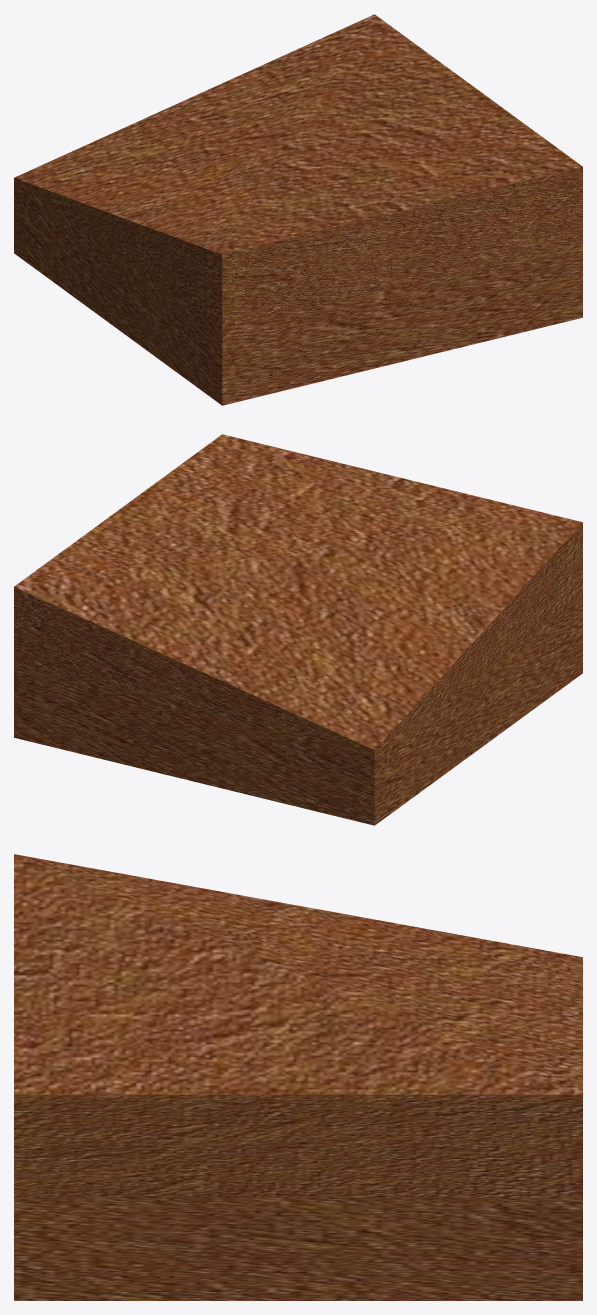
The model's file is Map0111.fbx.
3 views of the same model, one above another, from view 1: azimuth 30°, elevation 25°; view 2: azimuth 150°, elevation 25°; view 3: azimuth 270°, elevation 25° (orthographic). The views are drawn at different scales.
Parts seen in each view (by area): view 1: Map0111, Map0000; view 2: Map0111, Map0000; view 3: Map0111, Map0000.
Part boxes in pixels (<box>): Map0111: <box>14,14,582,329</box>; Map0000: <box>14,178,582,405</box>; Map0111: <box>14,434,582,749</box>; Map0000: <box>14,598,582,825</box>; Map0111: <box>14,854,582,1197</box>; Map0000: <box>14,1197,582,1300</box>.
Size of the model in its own units: 200 by 80 by 200.
2 materials, 2 textured.
